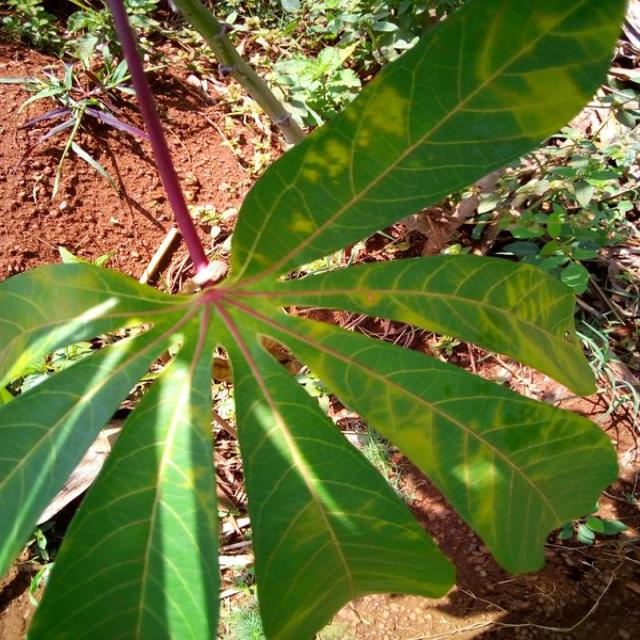cassava leaf: (1, 0, 630, 638), (226, 0, 628, 287), (254, 302, 619, 576), (215, 296, 458, 638), (23, 315, 221, 638), (270, 252, 598, 397)
